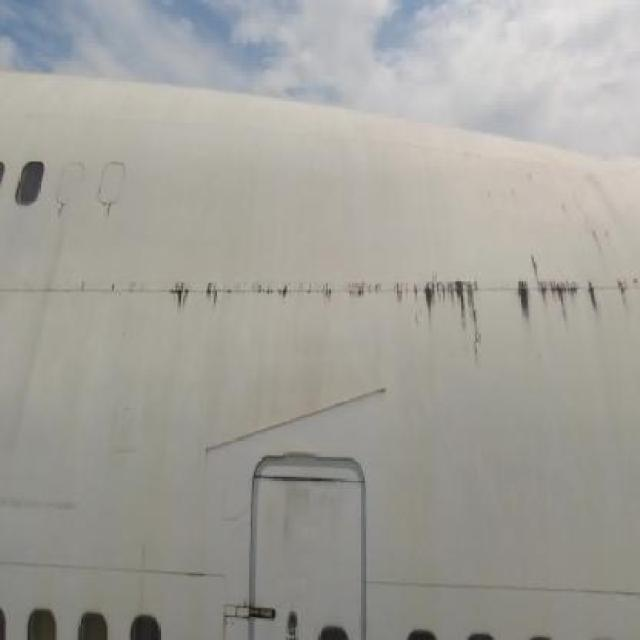Rust: (157, 268, 637, 343), (554, 178, 626, 279), (198, 454, 211, 640), (239, 590, 272, 608), (100, 200, 117, 232), (55, 199, 71, 221)
Scartch: (2, 475, 88, 540), (276, 480, 349, 554)
